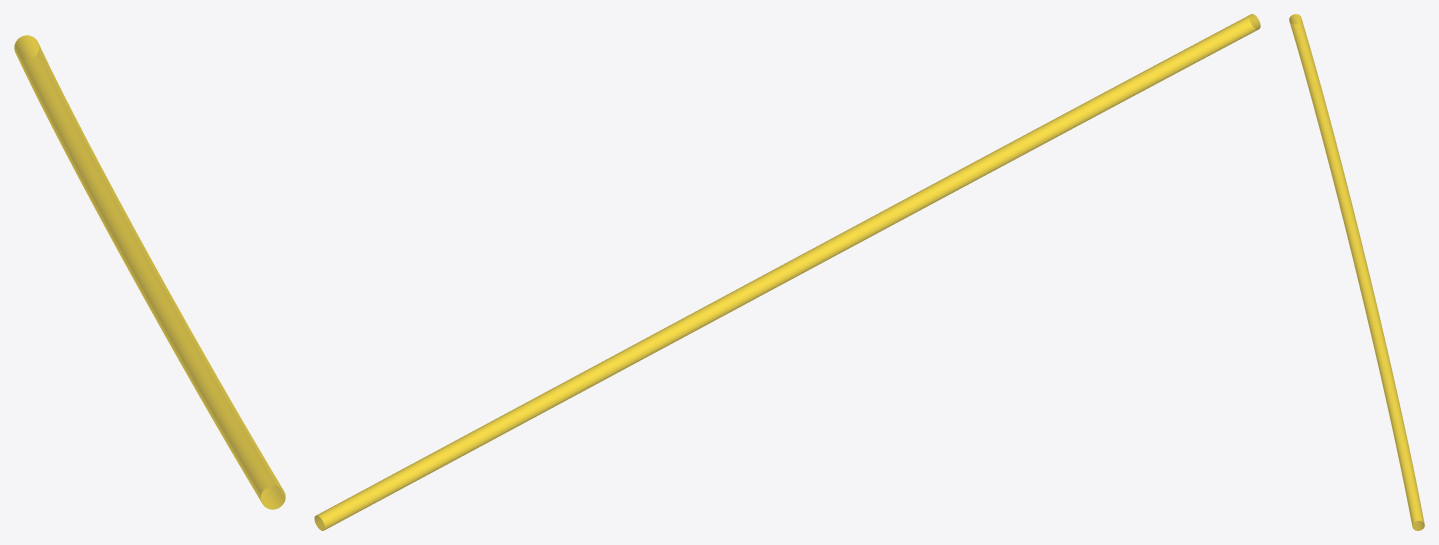
File: Event_84804159_track_52.fbx
The picture shows the model from 3 angles, left to right: view 1: azimuth 90°, elevation 25°; view 2: azimuth 210°, elevation 25°; view 3: azimuth 270°, elevation 25°; orthographic projection. The views are drawn at different scales.
Visible parts, largest first — view 1: Model; view 2: Model; view 3: Model.
Boxes of the visible parts, left/top/right/bottom form: Model: left=14, top=35, right=285, bottom=509; Model: left=314, top=14, right=1260, bottom=530; Model: left=1289, top=14, right=1424, bottom=530.
Bounding box in the file's own units: 2.75 × 0.5306 × 0.4292.
